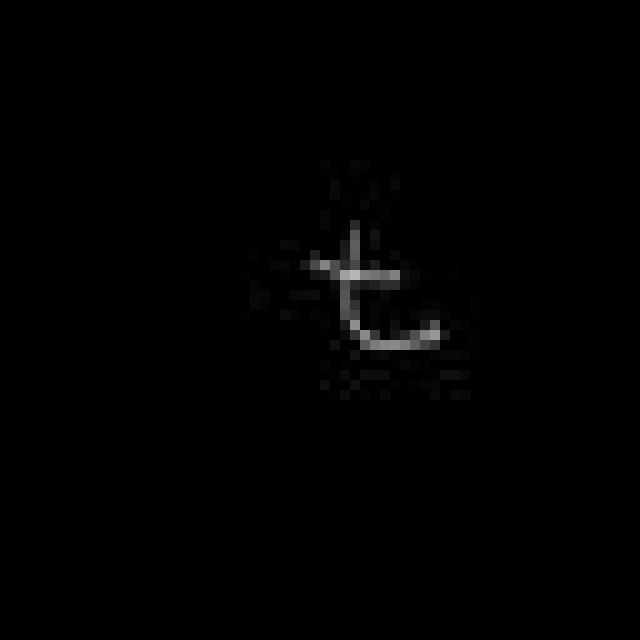7 -seven-: (300, 216, 448, 361)
